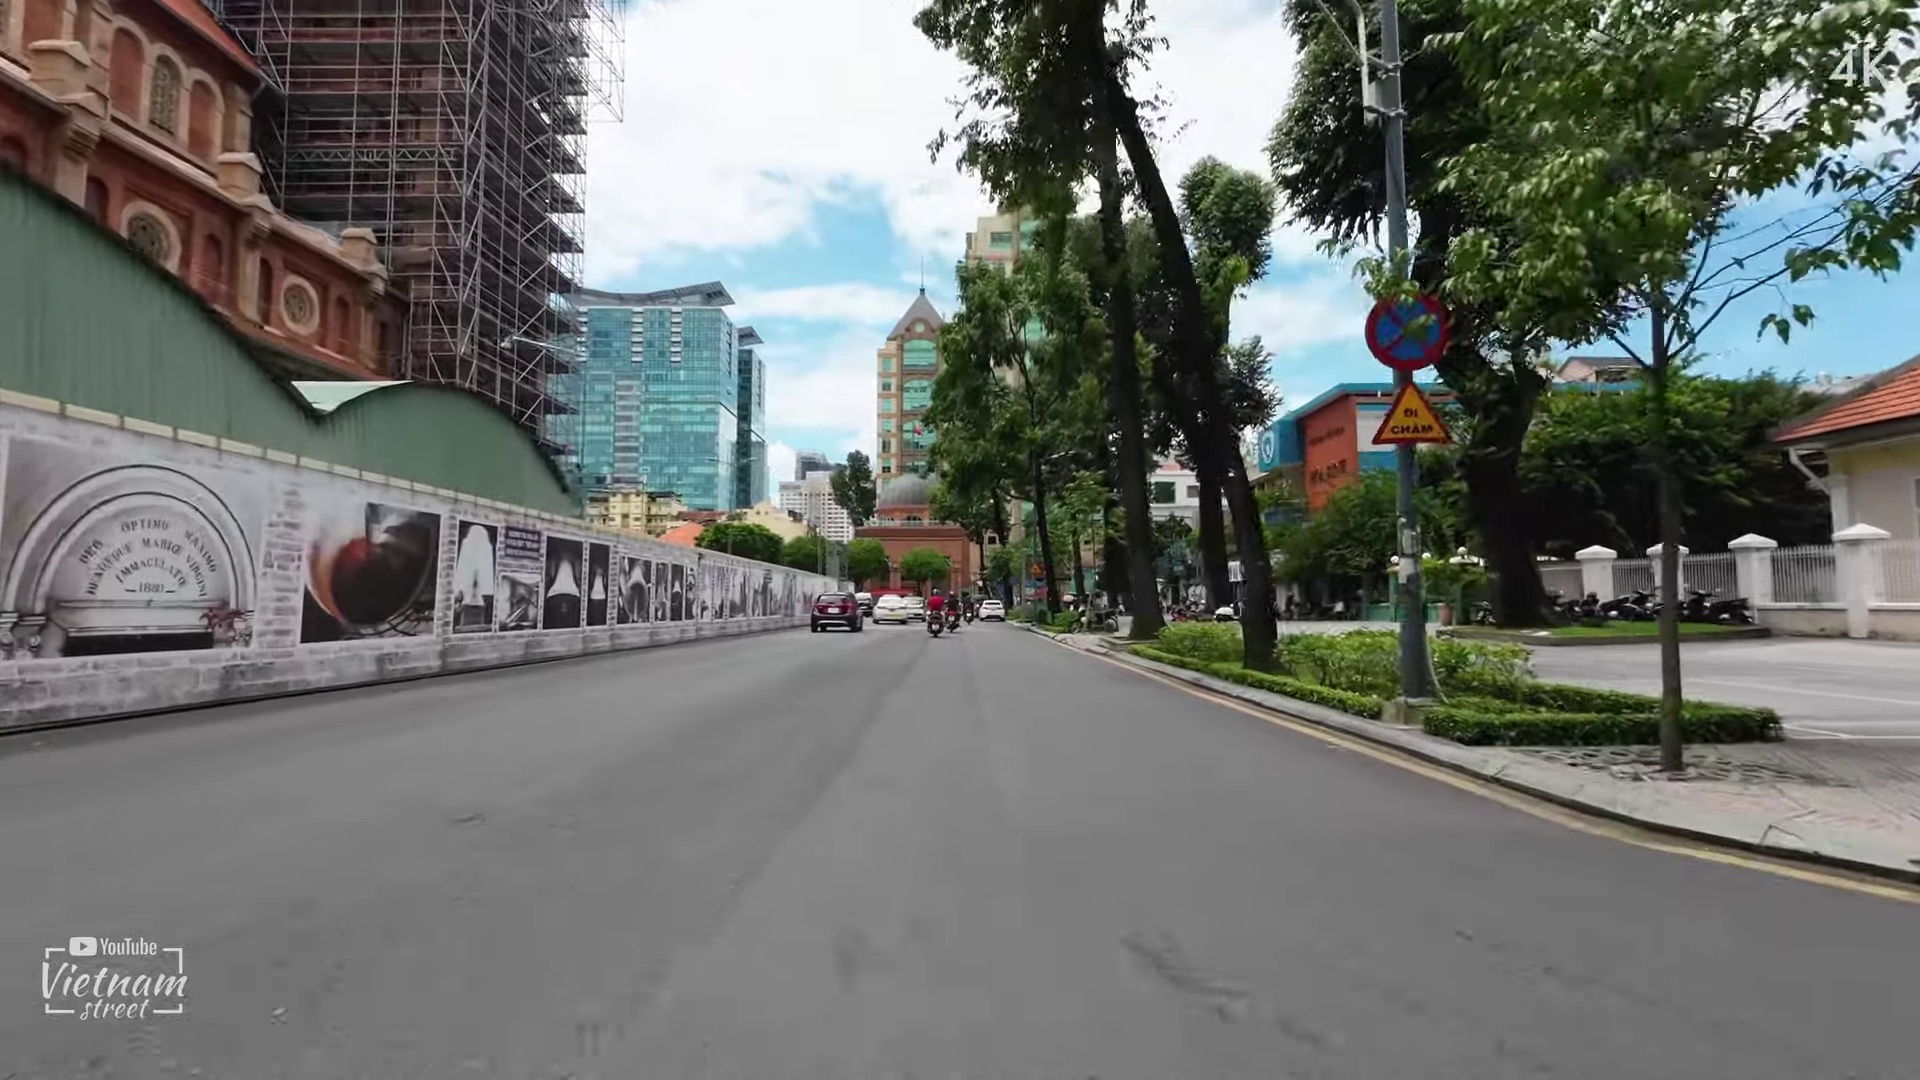di_cham: (1367, 381, 1455, 447)
